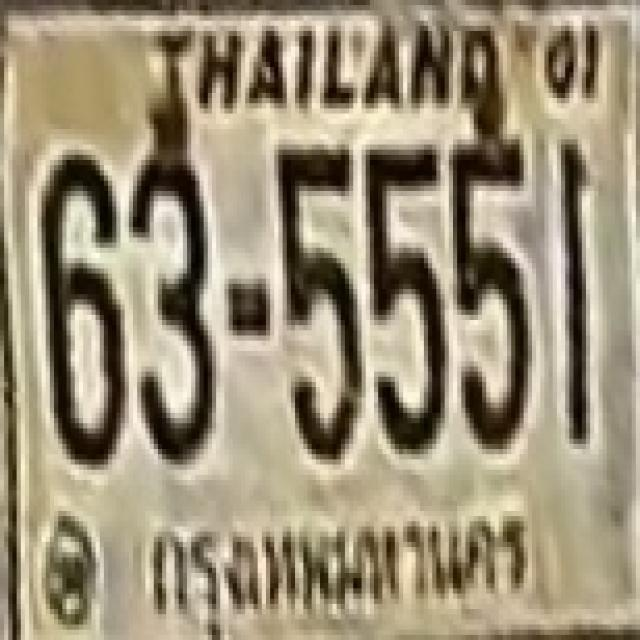0: (370, 248, 445, 449)
3: (131, 150, 214, 459)
BKK: (141, 504, 536, 630)
